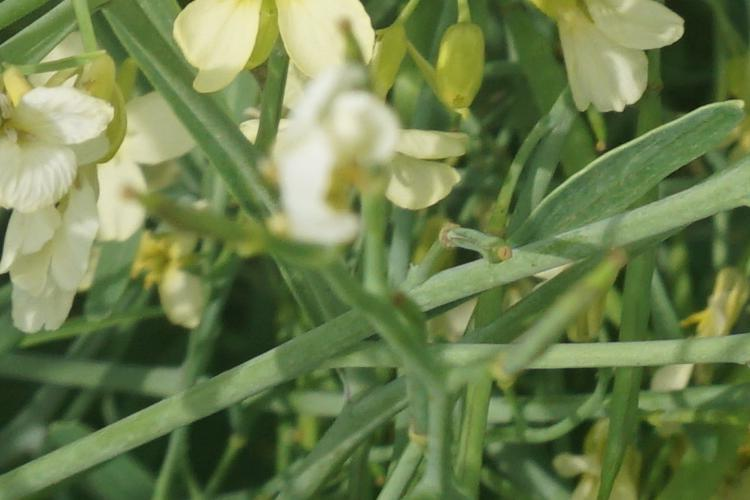bud: (434, 13, 496, 112)
white: (235, 78, 485, 238), (539, 13, 698, 118), (4, 66, 124, 197), (199, 20, 381, 74)
